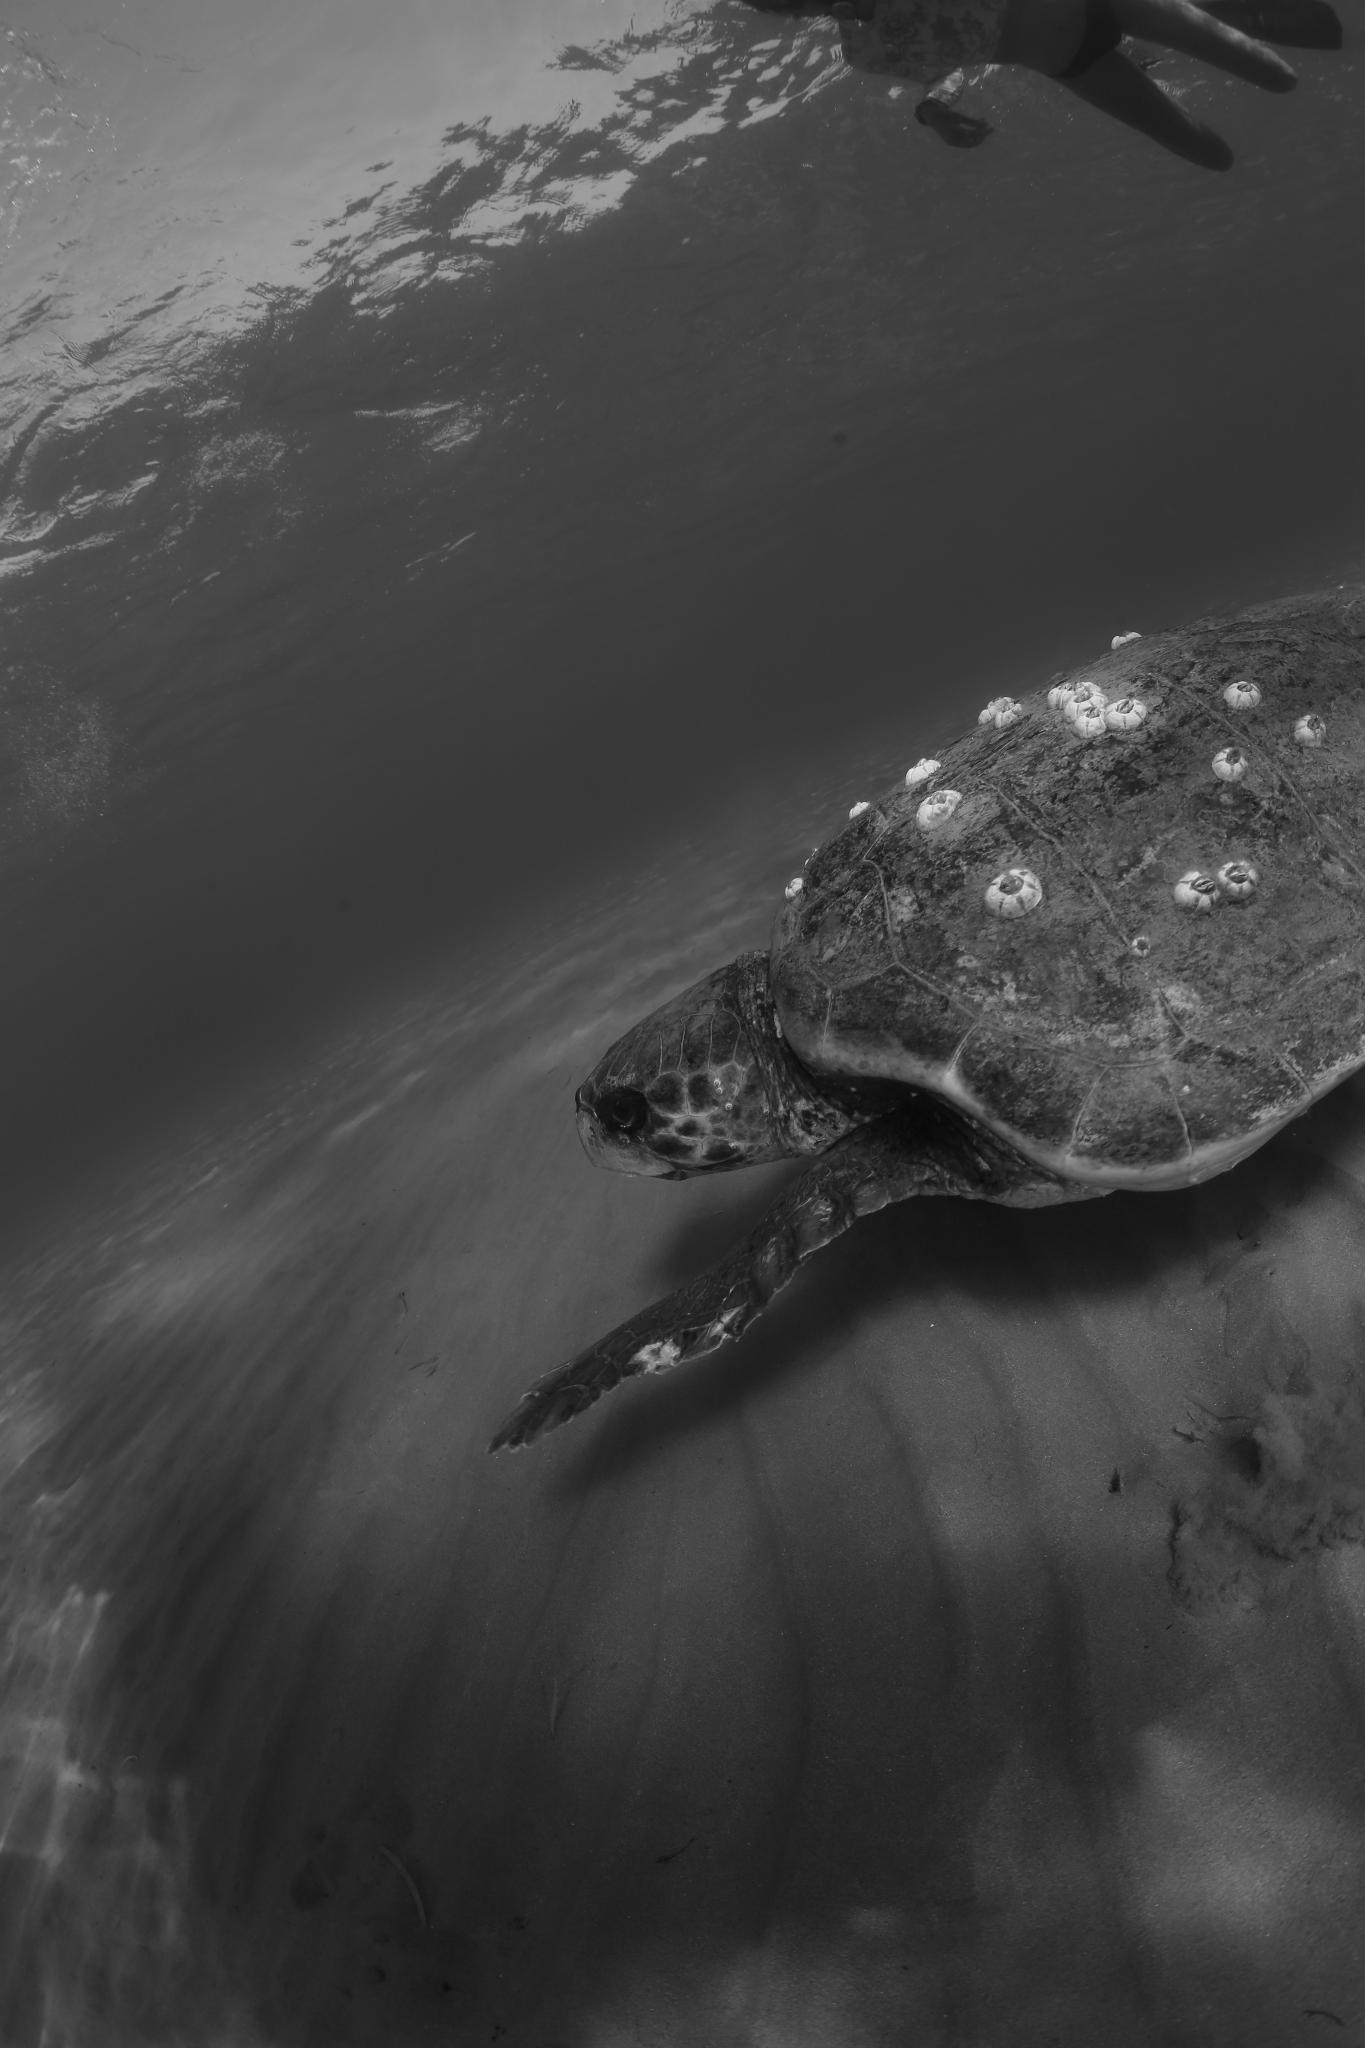Head: (576, 952, 843, 1179)
